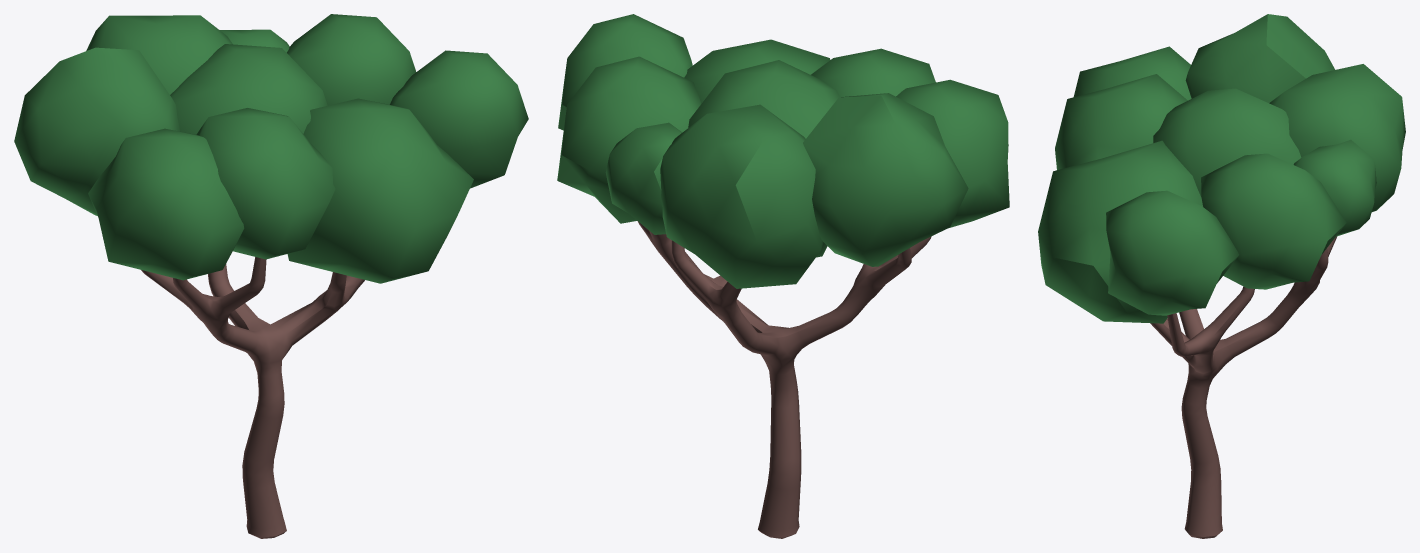
Rendered from Tree02.fbx.
The picture shows the model from 3 angles, left to right: view 1: azimuth 30°, elevation 25°; view 2: azimuth 150°, elevation 25°; view 3: azimuth 270°, elevation 25°; orthographic projection. The views are drawn at different scales.
Visible parts, largest first — view 1: Icosphere.002, Plane.005; view 2: Icosphere.002, Plane.005; view 3: Icosphere.002, Plane.005.
Part boxes in pixels (box(x1,y1,x2,y2)): Icosphere.002: box(14, 14, 528, 283); Plane.005: box(141, 257, 364, 538); Icosphere.002: box(557, 14, 1009, 288); Plane.005: box(637, 221, 931, 538); Icosphere.002: box(1038, 14, 1405, 323); Plane.005: box(1150, 236, 1337, 538).
Bounding box in the file's own units: 606 × 651 × 474.
